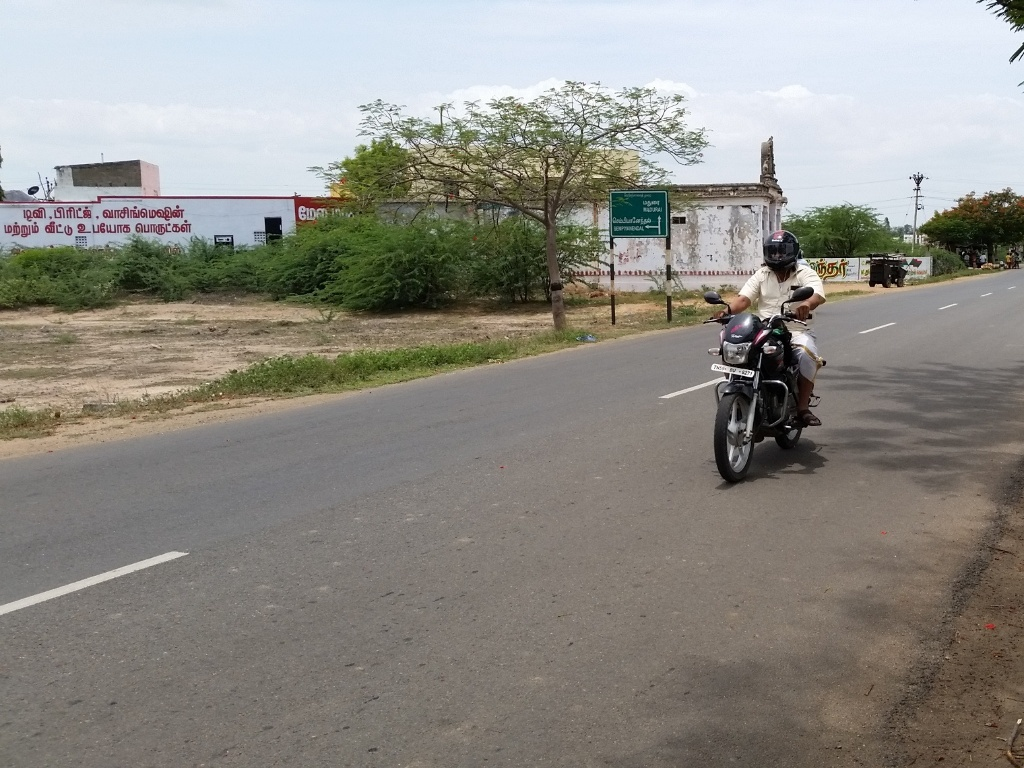biker: (670, 191, 852, 497)
helmet: (757, 217, 811, 285)
